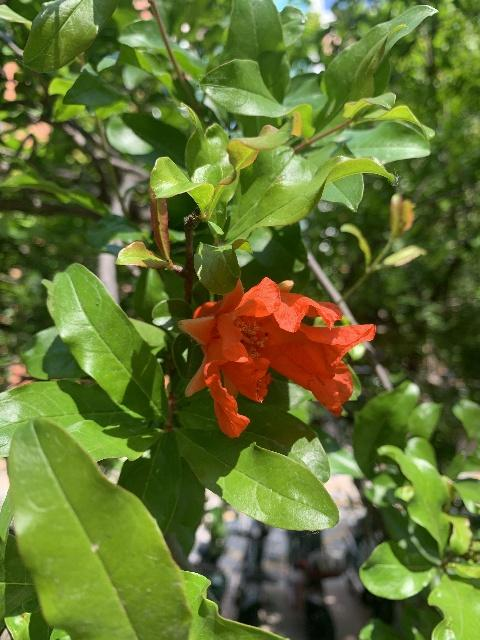flower: (177, 275, 375, 435)
